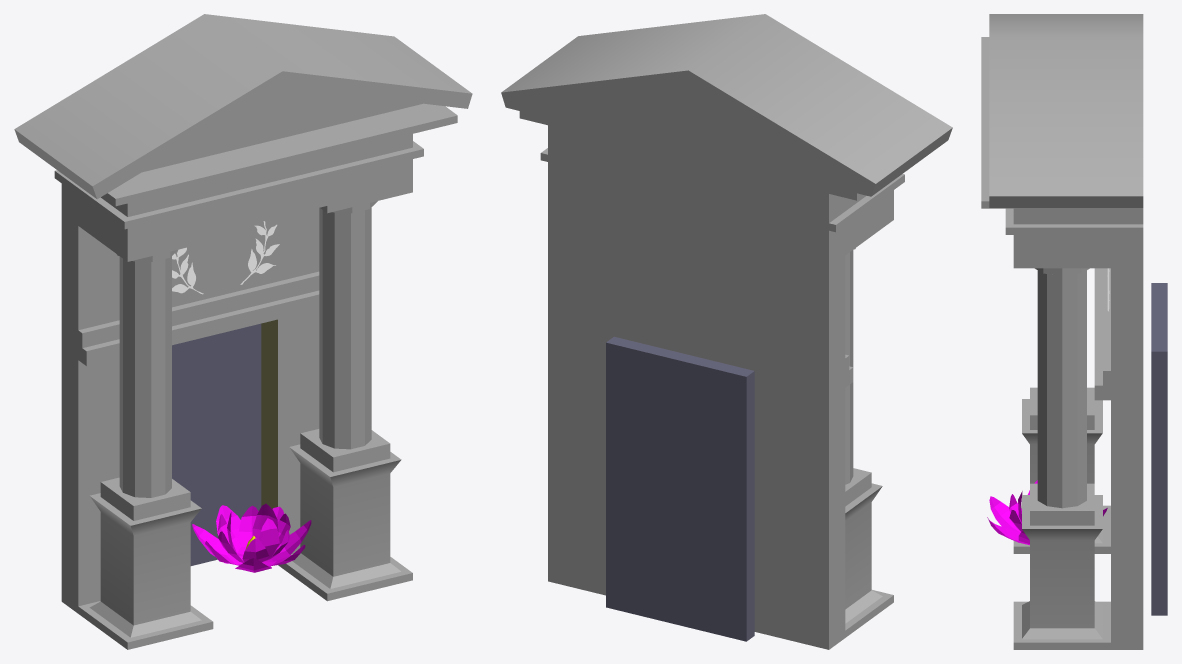
The model's file is M_Gate.fbx.
3 views of the same model, side by side, from view 1: azimuth 30°, elevation 25°; view 2: azimuth 150°, elevation 25°; view 3: azimuth 270°, elevation 25° (orthographic).
Visible parts, largest first — view 1: M_Gate_Roof, M_Gate_Wall3, M_Gate_Door, M_Gate_Base1, M_Gate_Base2, M_Gate_Wall1, M_Gate_Wall2, M_Gate_Column2, M_Gate_Column1, M_Gate_Column3, M_Gate_Column4, M_Lotus1 (+3 smaller); view 2: M_Gate_Roof, M_Gate_Door, M_Gate_Wall3, M_Gate_Wall1, M_Gate_Wall2, M_Gate_Base1, M_Gate_Column3, M_Gate_Column1; view 3: M_Gate_Roof, M_Gate_Base2, M_Gate_Wall2, M_Gate_Wall3, M_Gate_Column2, M_Gate_Column4, M_Gate_Door, M_Gate_Base1, M_Lotus1, M_Gate_Top2.
Boxes of the visible parts, <box> form: M_Gate_Roof: <box>14,14,472,254</box>; M_Gate_Wall3: <box>61,206,319,365</box>; M_Gate_Door: <box>172,323,261,565</box>; M_Gate_Base1: <box>78,477,213,649</box>; M_Gate_Base2: <box>278,429,412,601</box>; M_Gate_Wall1: <box>61,348,119,613</box>; M_Gate_Wall2: <box>261,309,319,554</box>; M_Gate_Column2: <box>319,319,371,449</box>; M_Gate_Column1: <box>119,367,171,497</box>; M_Gate_Column3: <box>119,256,171,378</box>; M_Gate_Column4: <box>319,207,371,329</box>; M_Lotus1: <box>192,503,311,572</box>; M_Gate_Roof: <box>501,14,952,259</box>; M_Gate_Door: <box>606,336,754,641</box>; M_Gate_Wall3: <box>548,191,853,399</box>; M_Gate_Wall1: <box>754,382,845,649</box>; M_Gate_Wall2: <box>548,331,605,595</box>; M_Gate_Base1: <box>845,468,893,637</box>; M_Gate_Column3: <box>845,250,853,365</box>; M_Gate_Column1: <box>845,359,853,484</box>; M_Gate_Roof: <box>981,14,1143,260</box>; M_Gate_Base2: <box>1013,483,1110,649</box>; M_Gate_Wall2: <box>1111,400,1143,649</box>; M_Gate_Wall3: <box>1094,261,1143,400</box>; M_Gate_Column2: <box>1037,383,1086,508</box>; M_Gate_Column4: <box>1037,270,1086,390</box>; M_Gate_Door: <box>1151,283,1167,615</box>; M_Gate_Base1: <box>1013,387,1110,553</box>; M_Lotus1: <box>987,480,1107,545</box>; M_Gate_Top2: <box>1013,261,1110,275</box>.
Bounding box in the file's own units: 13.33 × 18.53 × 5.75.
